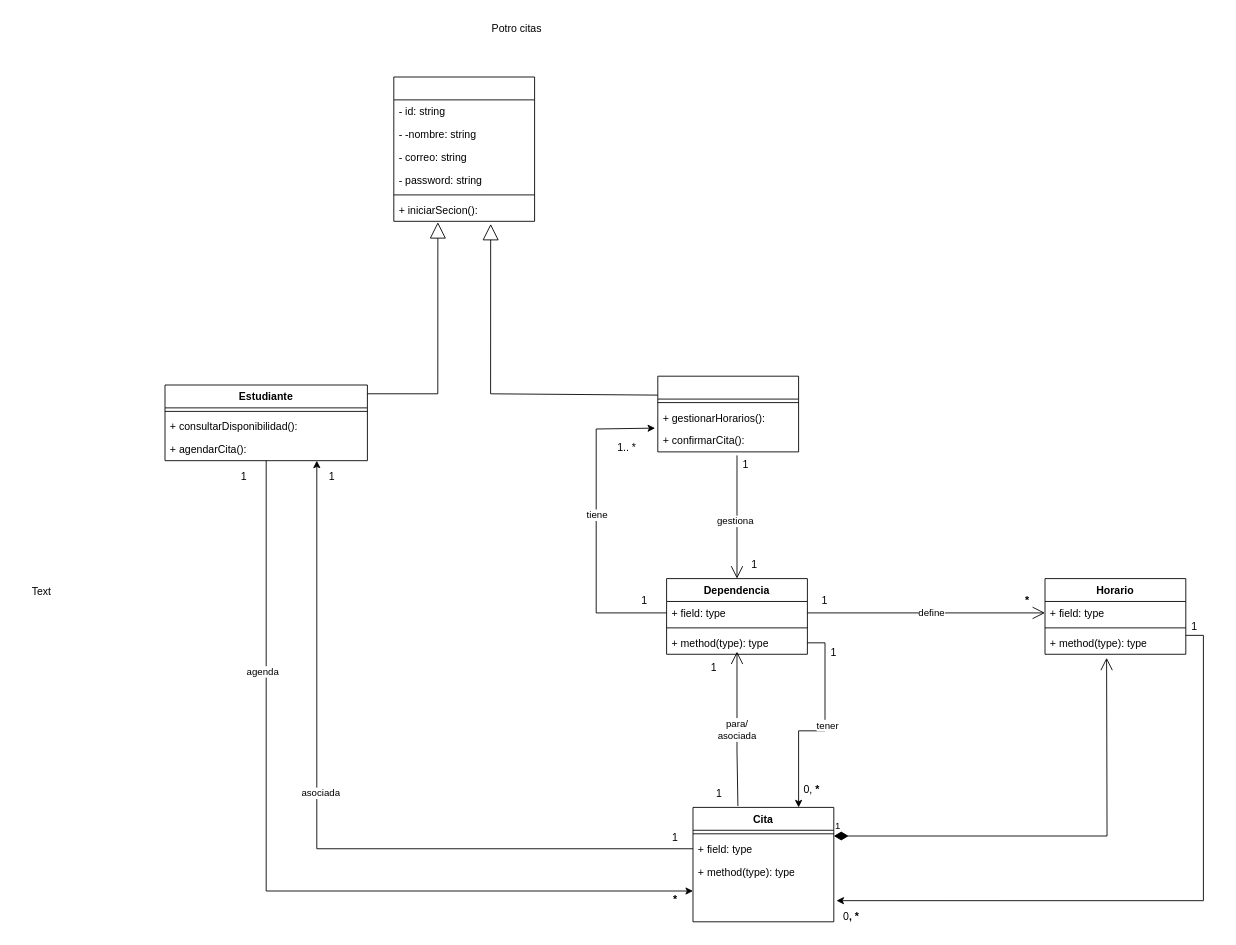
Image size: 1236x945. Some labels were removed from this diagram. The box of each missing label's shape, as (x1, y1, x2, y2) in pixels:
PersonalAdministrativo: (657, 375, 799, 452)
Usuario: (393, 76, 535, 221)
